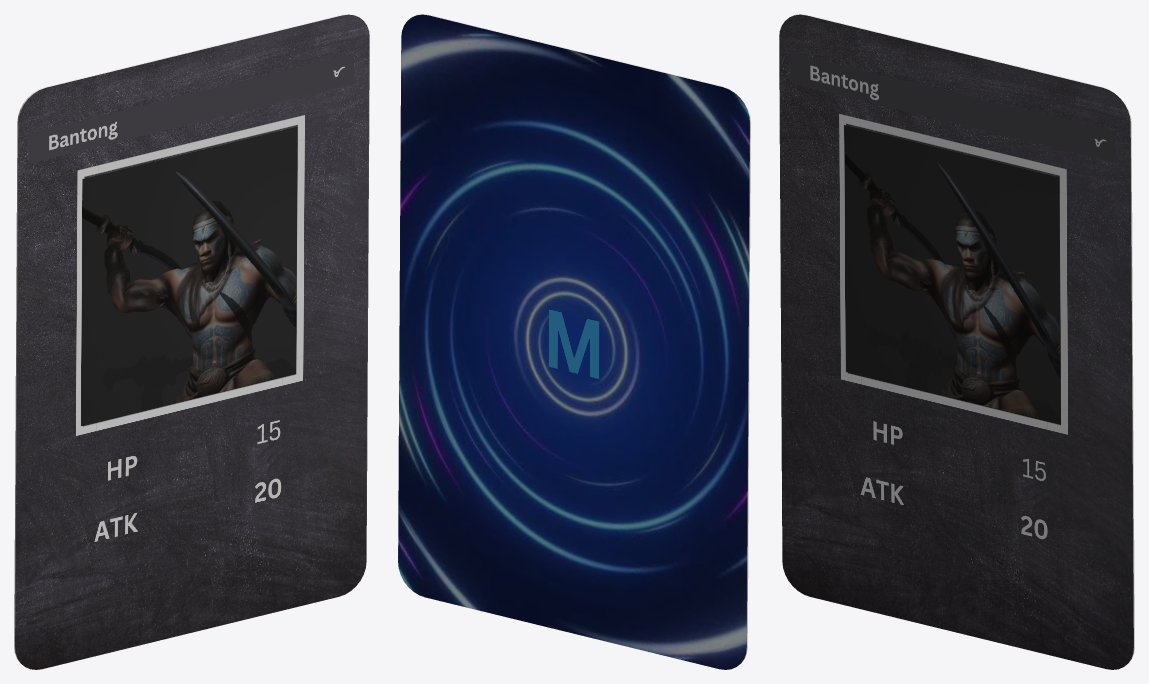
File: Bantong.glb
The picture shows the model from 3 angles, left to right: view 1: azimuth 30°, elevation 25°; view 2: azimuth 150°, elevation 25°; view 3: azimuth 330°, elevation 25°; orthographic projection.
Visible parts, largest first — view 1: Card; view 2: Card; view 3: Card.
Part boxes in pixels (x1,y1,x2,y2): Card: [14, 14, 369, 669]; Card: [398, 14, 750, 669]; Card: [779, 14, 1134, 669].
Size of the model in its own units: 0.056 by 0.0889 by 0.00122.
3 materials, 2 textured.
